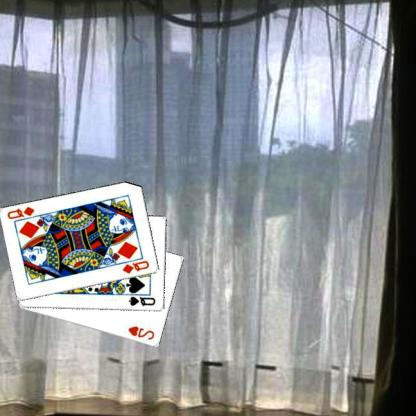2H: (127, 324, 158, 342)
QD: (6, 203, 38, 221), (122, 258, 153, 275)
QS: (128, 294, 158, 308)
